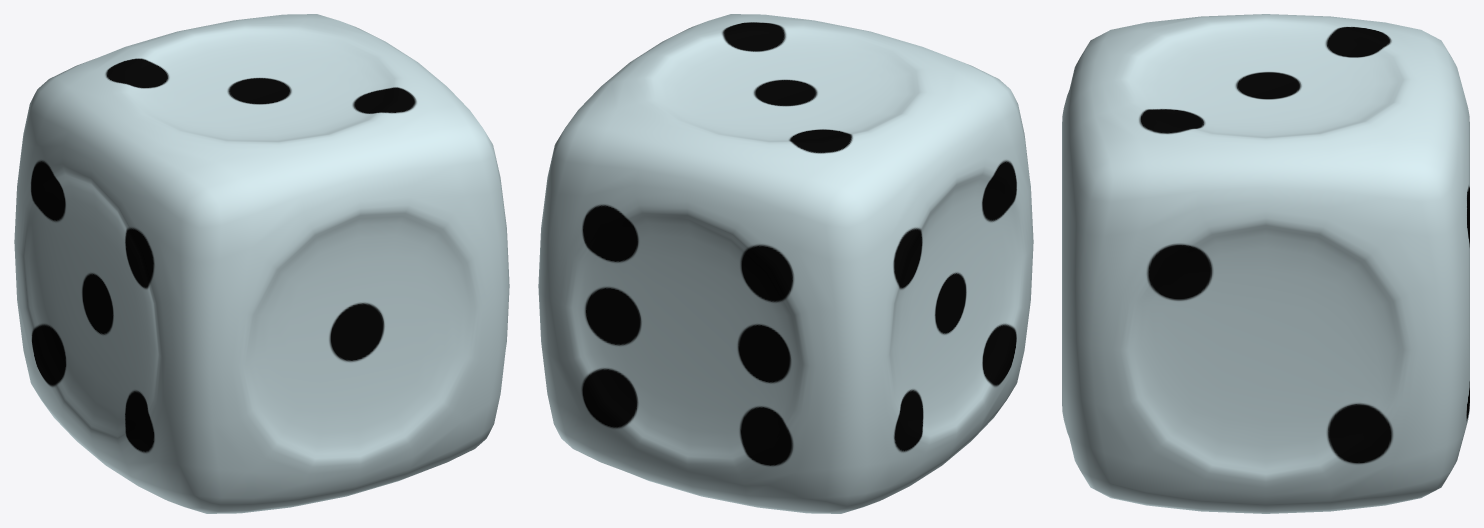
File: Die Cube.fbx
3 views of the same model, side by side, from view 1: azimuth 30°, elevation 25°; view 2: azimuth 150°, elevation 25°; view 3: azimuth 270°, elevation 25° (orthographic). The views are drawn at different scales.
Visible parts, largest first — view 1: Die; view 2: Die; view 3: Die.
Boxes of the visible parts, box(x1,y1,x2,y2) form: Die: box(14, 14, 509, 513); Die: box(538, 14, 1033, 513); Die: box(1062, 14, 1469, 513).
Size of the model in its own units: 99.28 by 99.28 by 99.28.
Materials: 1 (1 with a texture image).
